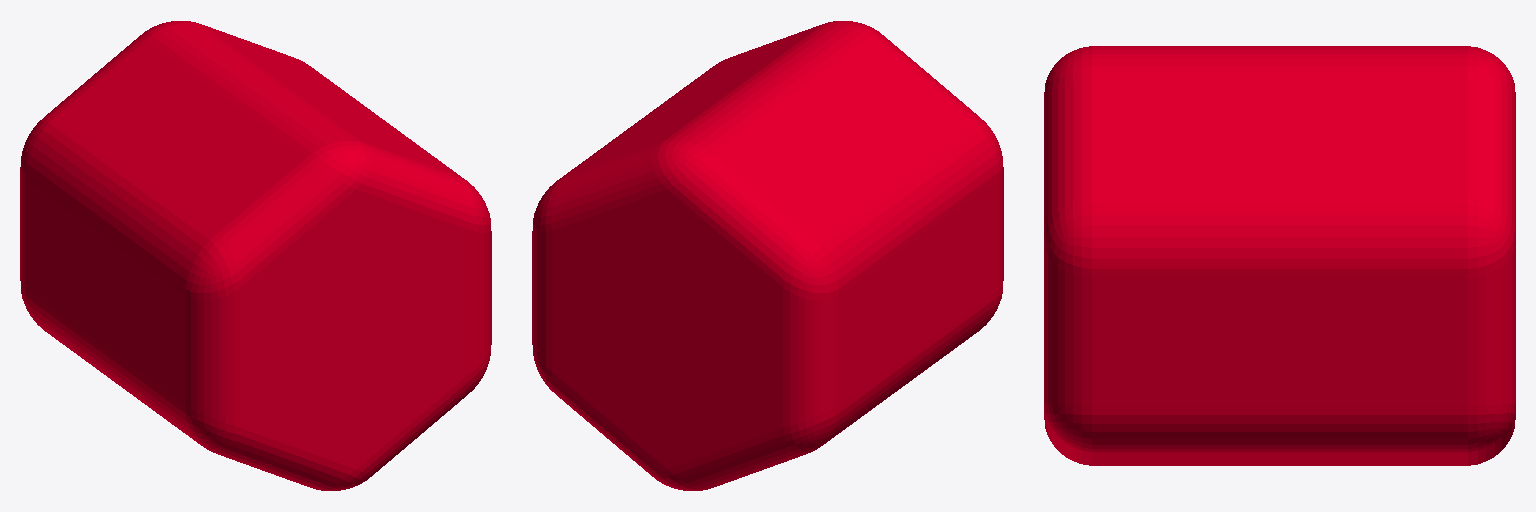
URDF robot description (hexagonal_prism.urdf):
<?xml version="1.0" ?>
<robot name="hexagonal_prism.urdf">

  <link name="hexagonal_prism">
    <contact>
    	<friction_anchor/>
    	   <lateral_friction value="1.0"/>
    </contact>
    <inertial>
      <origin rpy="0 0 0" xyz="0 0 0"/>
       <mass value=".1"/>
       <inertia ixx="1" ixy="0" ixz="0" iyy="1" iyz="0" izz="1"/>
    </inertial>
    <visual>
      <origin rpy="0 0 0" xyz="0 0 0"/>
      <geometry>
				<mesh filename="hexagonal_prism_rounded.obj" scale="1.0 1.0 1.0"/>
      </geometry>
       <material name="red">
        <color rgba="0.9 0 0.2 1.0"/>
      </material>
    </visual>
    <collision>
      <origin rpy="0 0 0" xyz="0 0 0"/>
      <geometry>
				<mesh filename="hexagonal_prism_rounded.obj" scale="1.0 1.0 1.0"/>
      </geometry>
    </collision>
  </link>


</robot>

--- Facts derived from the render (not from the file) ---
The picture shows the robot from 3 angles, left to right: view 1: azimuth 30°, elevation 25°; view 2: azimuth 150°, elevation 25°; view 3: azimuth 270°, elevation 25°; orthographic projection.
Robot: hexagonal_prism.urdf — 1 links, 0 joints (none); root link hexagonal_prism; default pose: every joint at zero.
Visible links, largest first — view 1: hexagonal_prism; view 2: hexagonal_prism; view 3: hexagonal_prism.
Link boxes in pixels (<box>): hexagonal_prism: <box>20,21,491,490</box>; hexagonal_prism: <box>532,21,1003,490</box>; hexagonal_prism: <box>1044,46,1515,465</box>.
Size in the robot's own frame: 0.0866 by 0.1 by 0.0948 metres.
1 mesh visuals loaded from 1 distinct referenced files (1 OBJ).